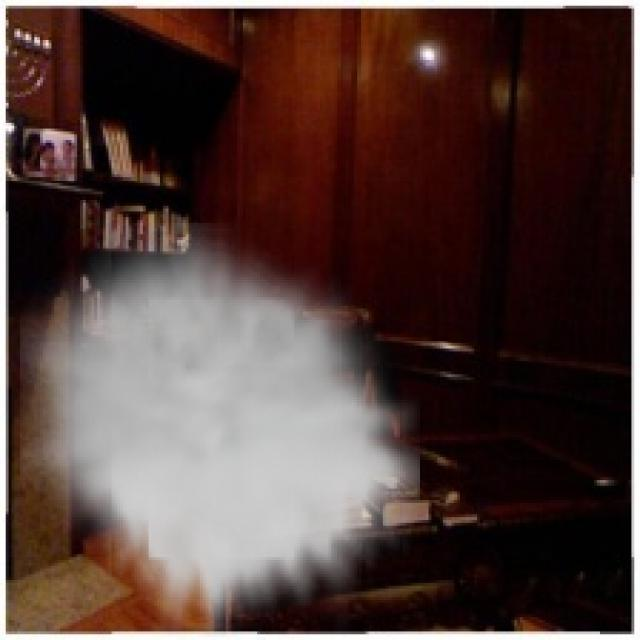Smoke: (20, 222, 420, 638)
